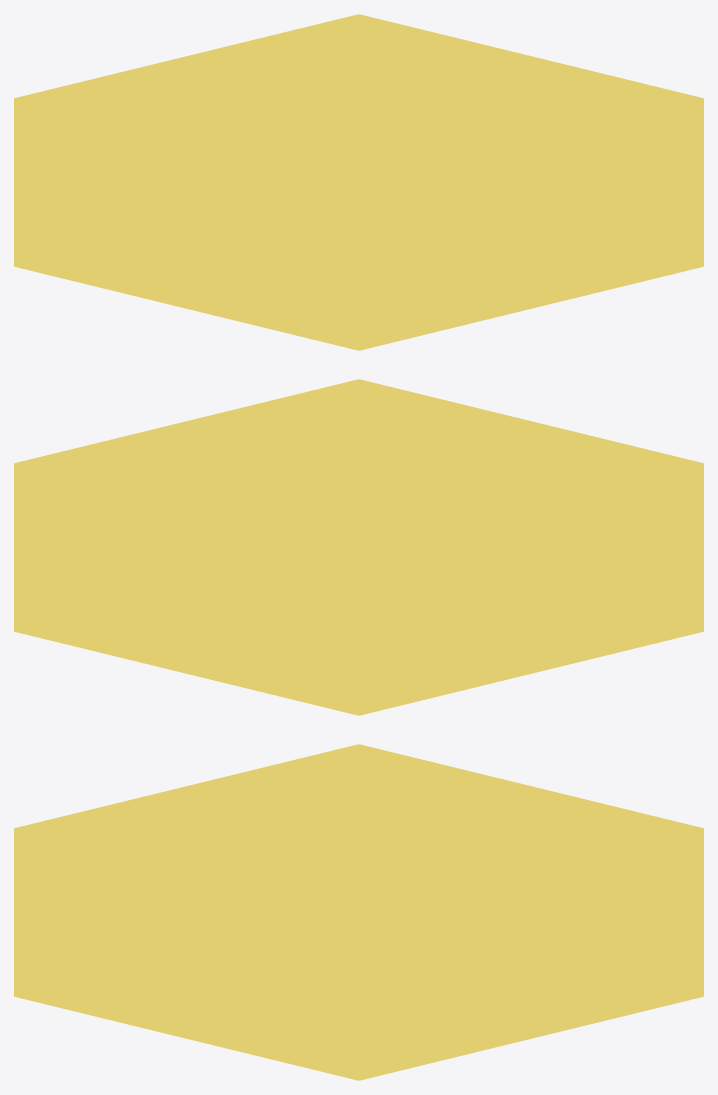
The model's file is sand.fbx.
3 renders of one model, top to bottom at view 1: azimuth 30°, elevation 25°; view 2: azimuth 150°, elevation 25°; view 3: azimuth 270°, elevation 25°, orthographic.
Visible parts, largest first — view 1: sand_plane; view 2: sand_plane; view 3: sand_plane.
Boxes of the visible parts, box(x1,y1,x2,y2) form: sand_plane: box(14, 14, 703, 350); sand_plane: box(14, 379, 703, 715); sand_plane: box(14, 744, 703, 1080).
Bounding box in the file's own units: 2 × 0 × 1.73.
Materials: 1 (1 with a texture image).
